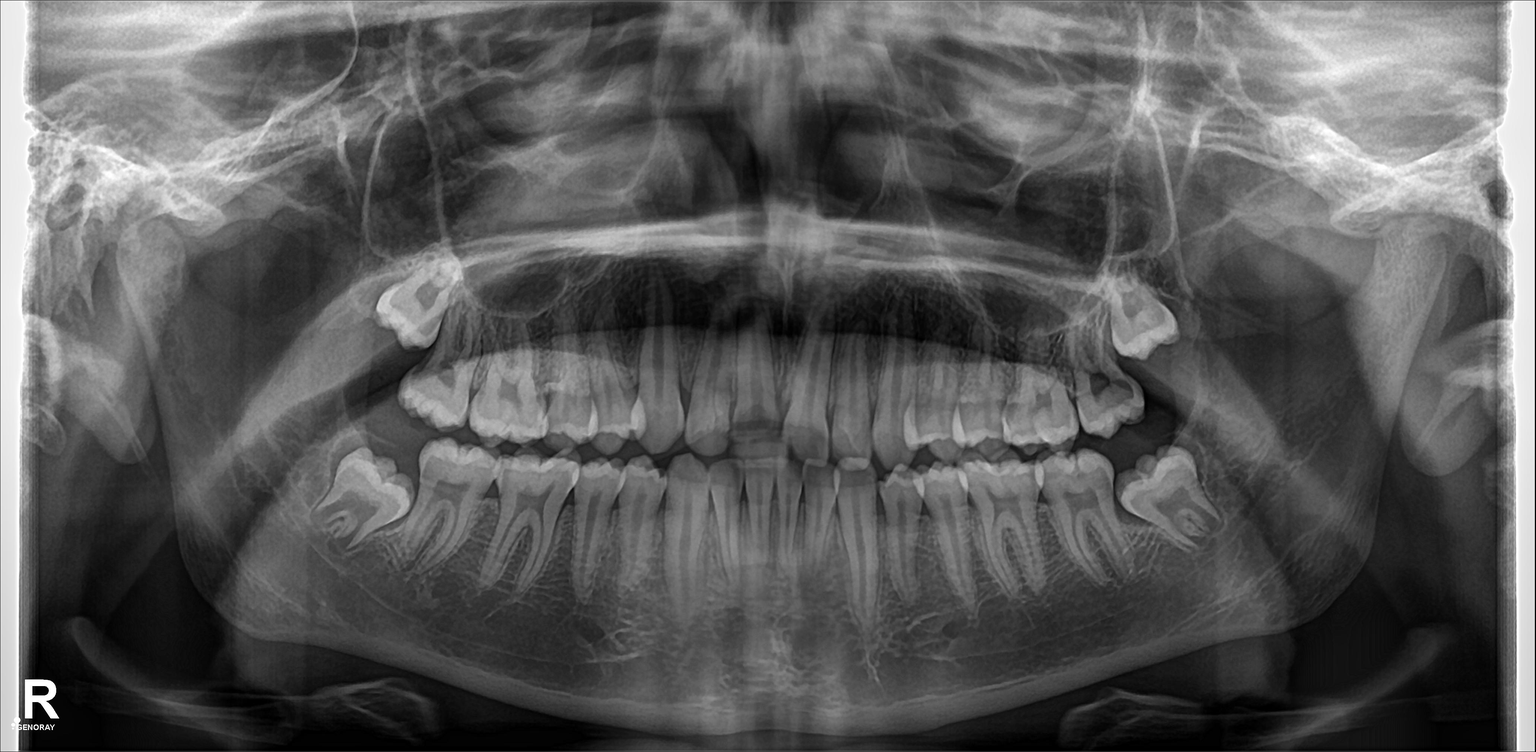Impacted Third Molar: (1132, 458, 1216, 547), (328, 458, 401, 542), (1104, 270, 1180, 349), (380, 266, 439, 335)
